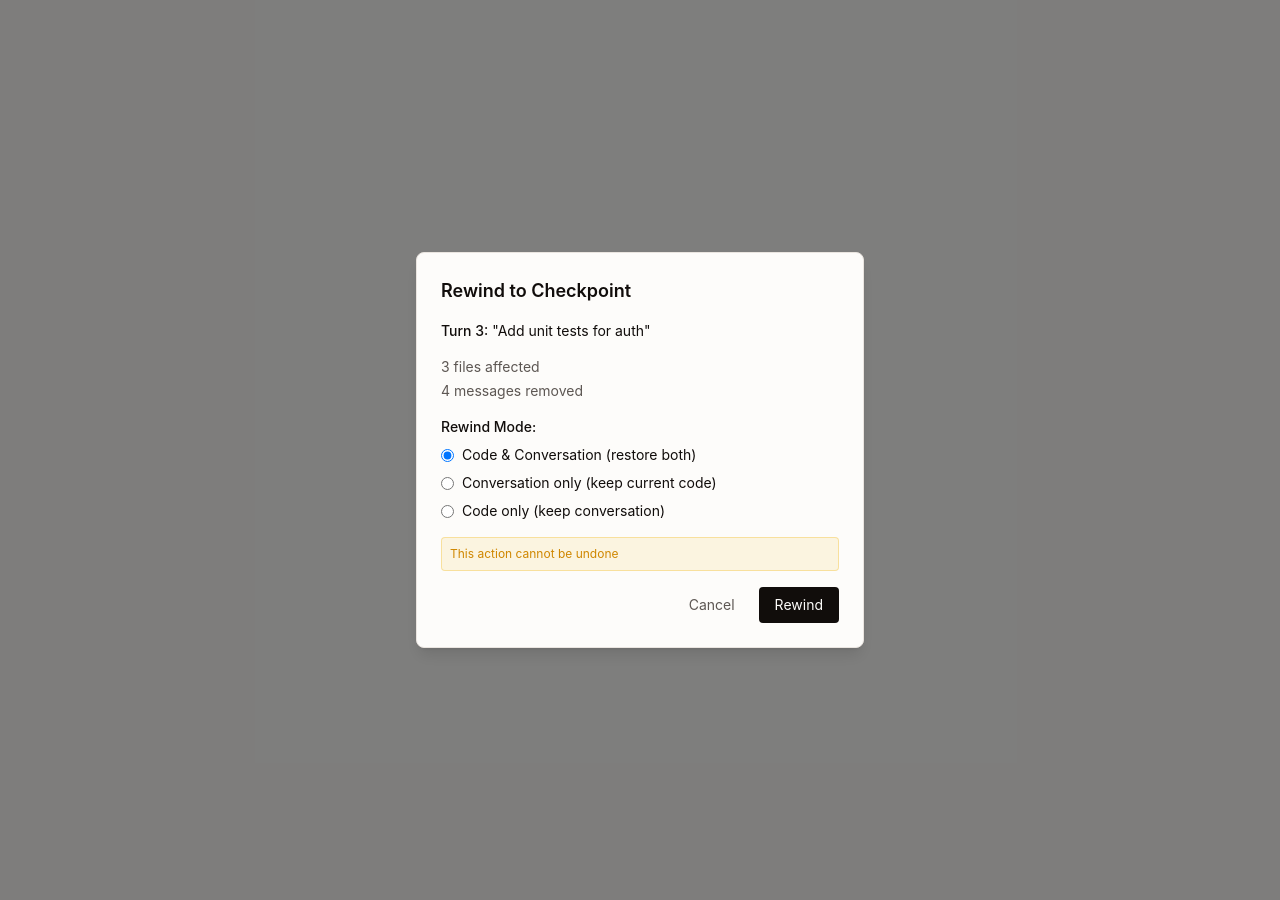
Test: RewindDialog › allows changing rewind mode
The width and height of the screenshot is (1280, 900).
Step 1. Click the radio button labelled "Conversation only (keep current code)" → [448, 483], box [441,476,454,490]
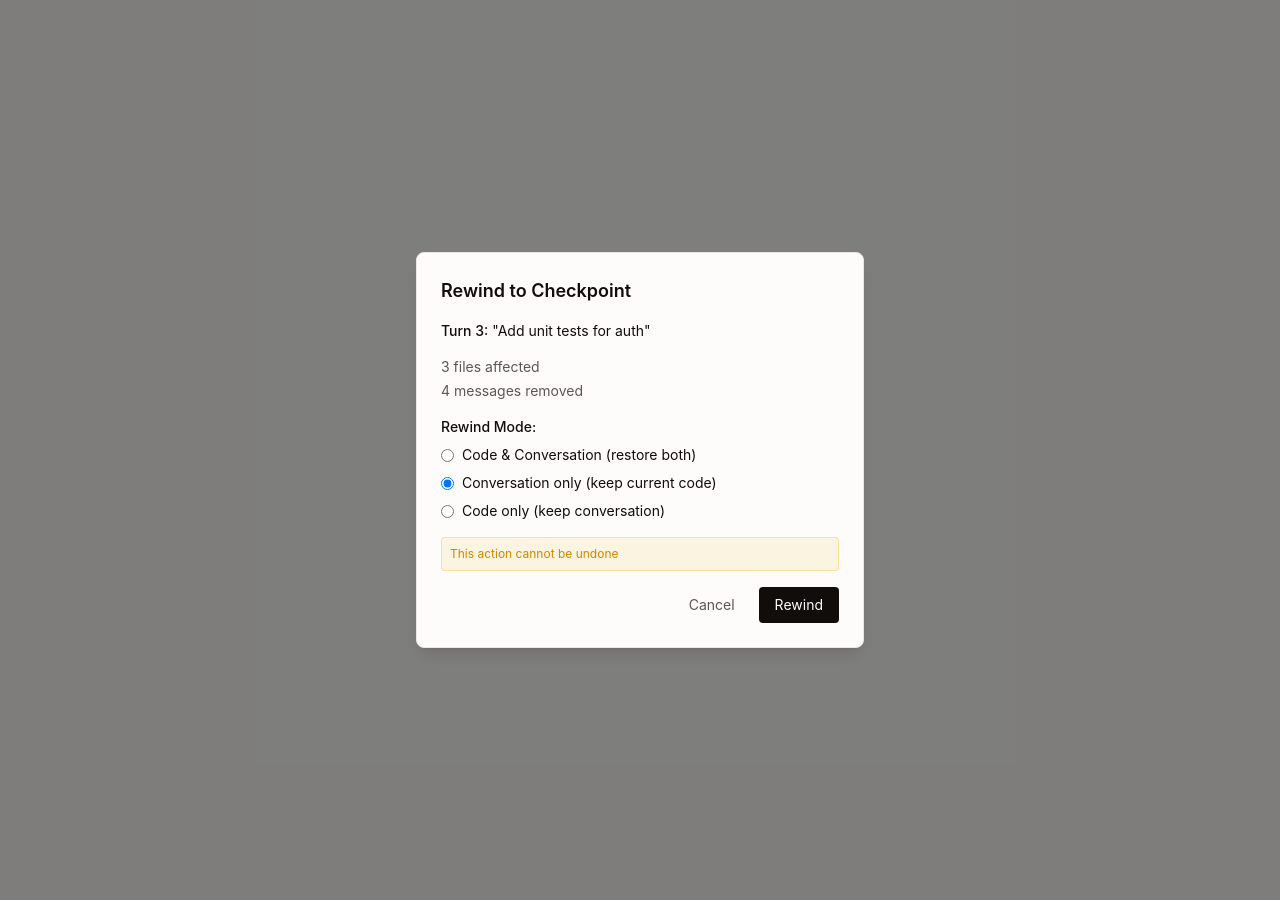
Now the radio button labelled "Conversation only (keep current code)" is checked, box [441,476,454,490]
Now the radio button labelled "Code & Conversation (restore both)" is not checked, box [441,448,454,462]
